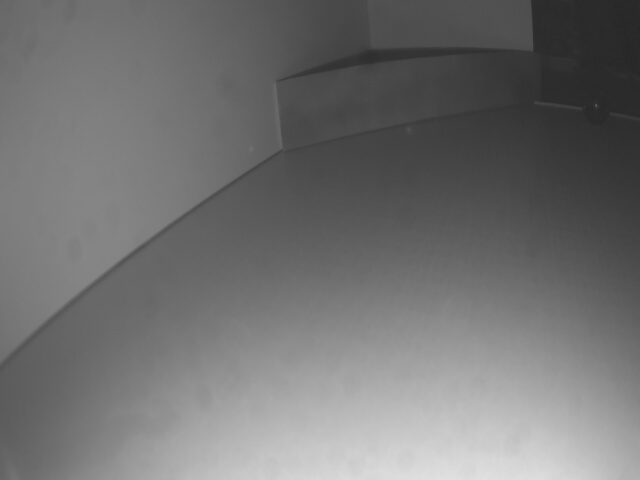Dead: (584, 85, 611, 123)
Green: (273, 53, 544, 154)
